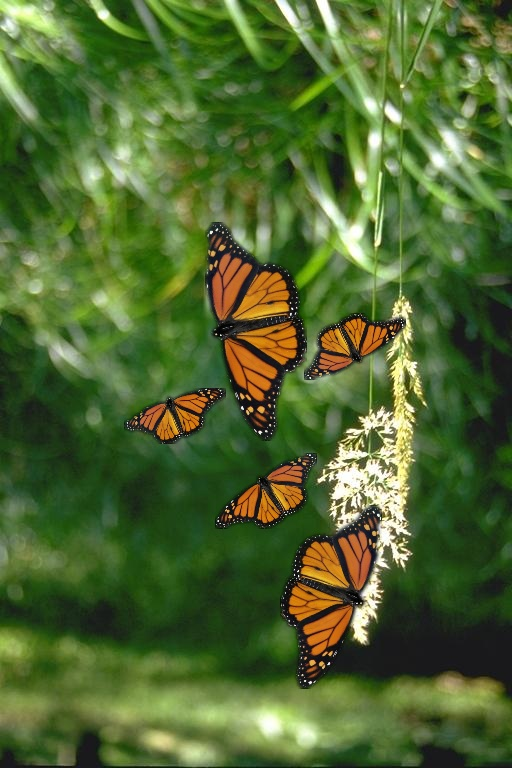danaus_plexippus: (205, 222, 307, 441), (280, 505, 382, 685), (215, 453, 317, 529), (304, 313, 406, 380), (124, 388, 226, 444)
